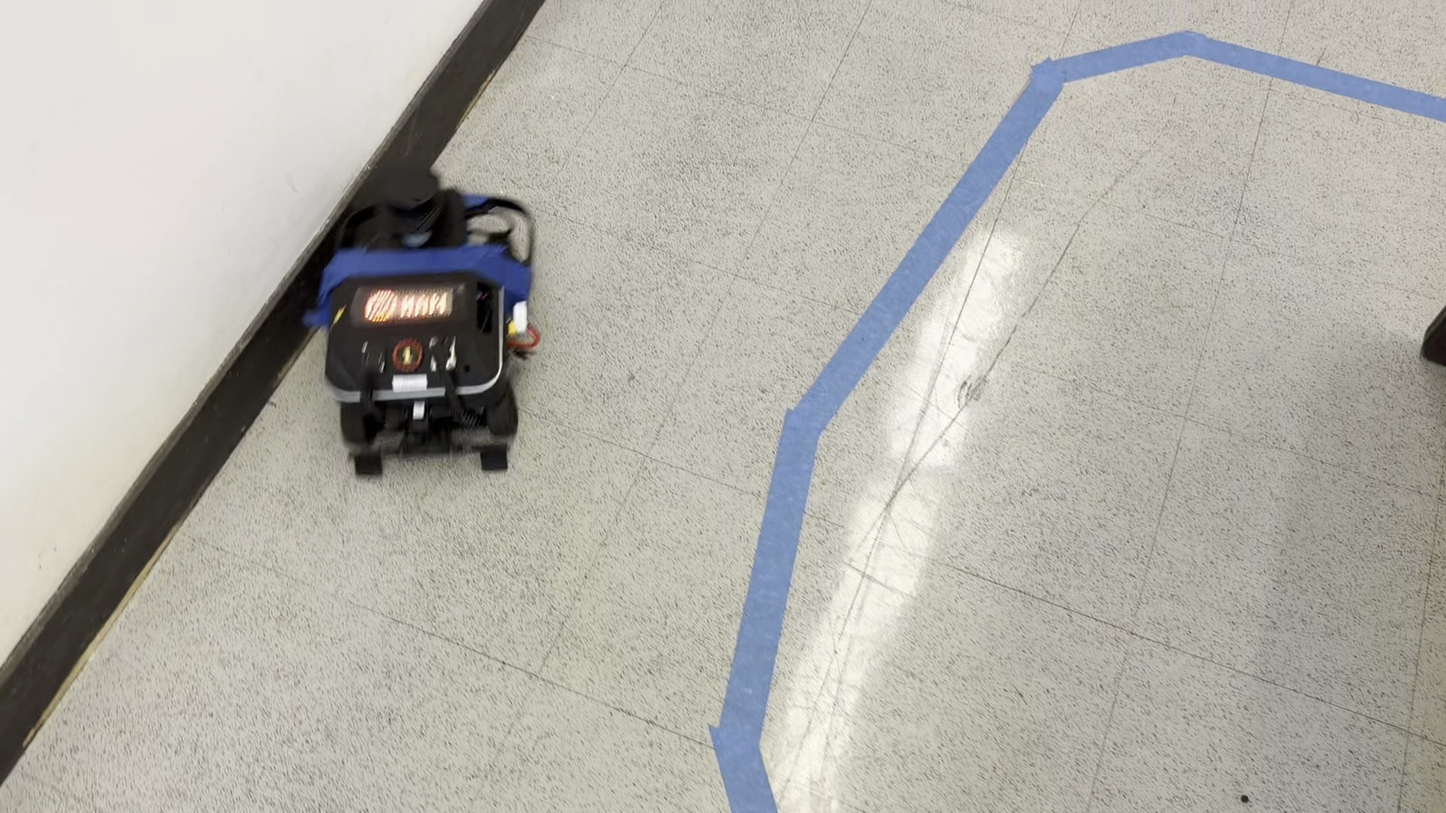racecar: (314, 184, 541, 475)
